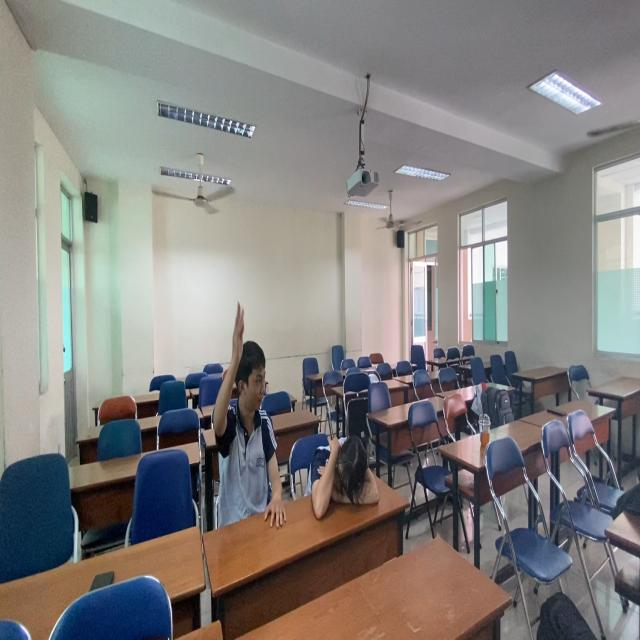raise_hand: (209, 300, 281, 513)
sleep: (306, 426, 386, 529)
